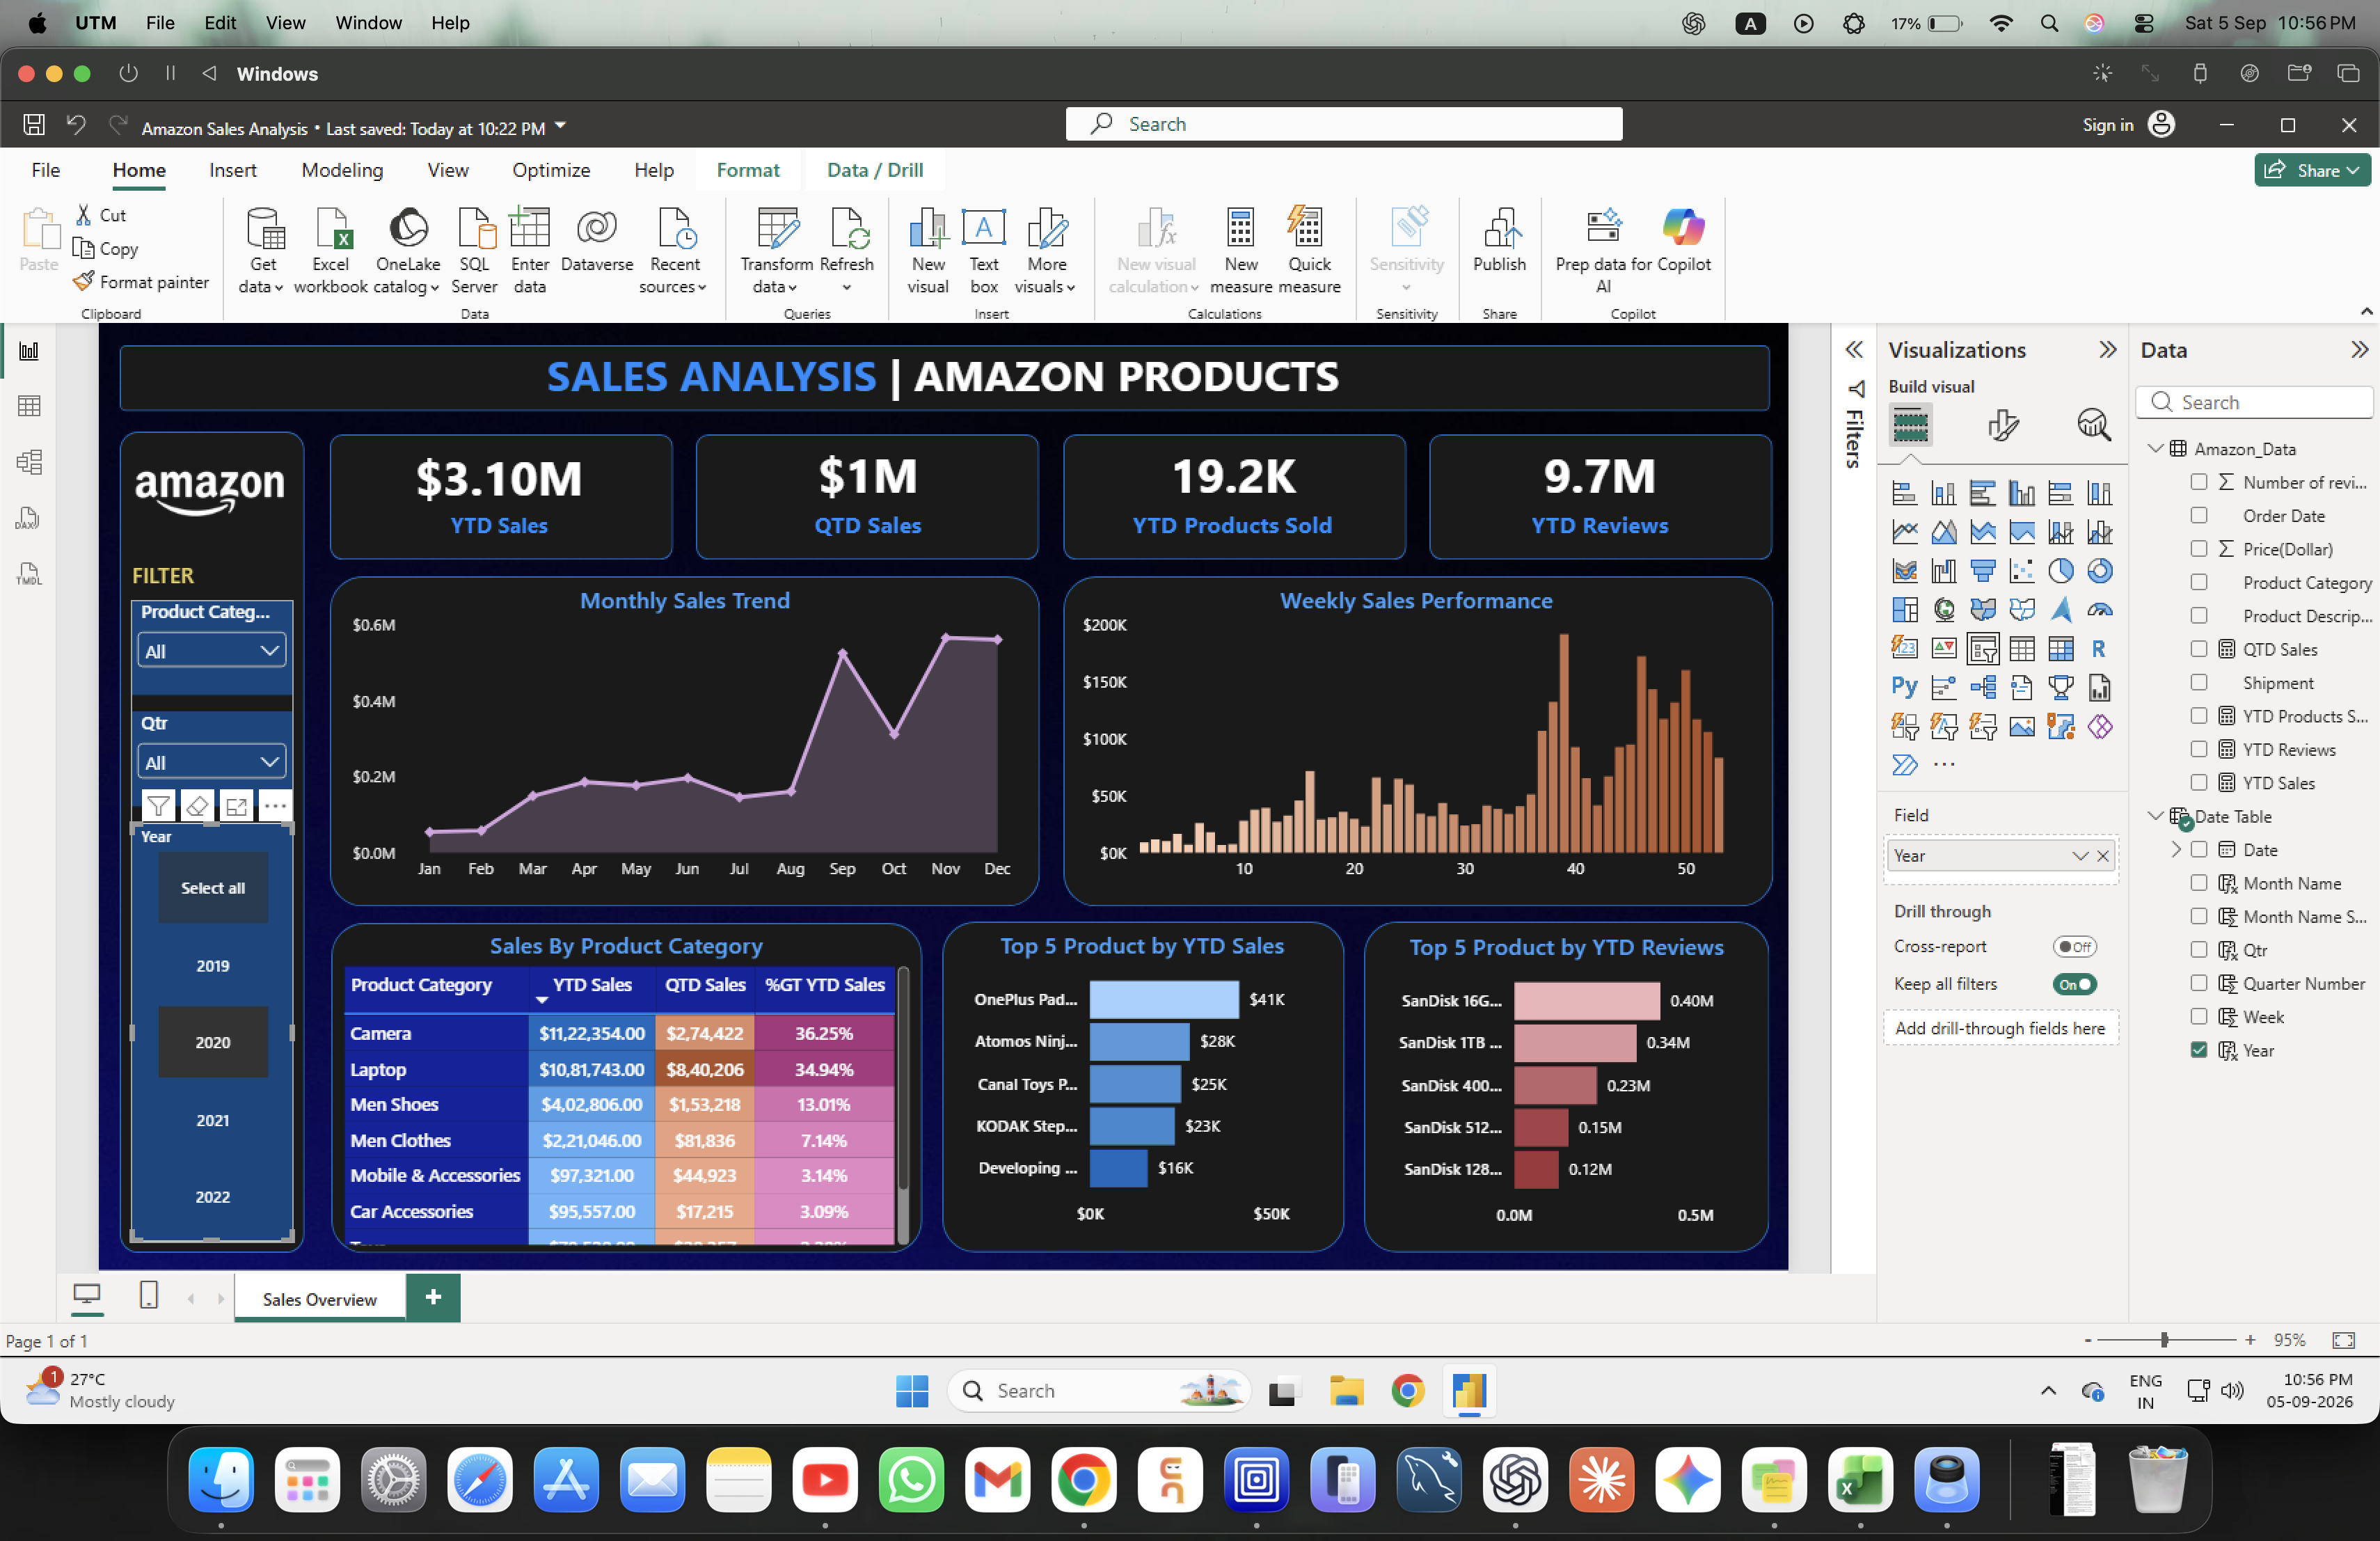

What the dashboard file says about the page in this screenshot:
{"tool":"powerbi","page":{"name":"Page 1","canvas":[1280,720],"ordinal":0},"visuals":[{"type":"shape","box":[15.4,16.8,1250,50],"z":0},{"type":"shape","box":[174.6,84.3,260,95],"z":0,"group":"g1"},{"type":"textbox","box":[334,16.8,610.7,50.3],"z":1000},{"type":"cardVisual","fields":{"Data":["Amazon_Data.YTD Sales"]},"box":[173.8,85.9,259.9,95],"z":1000,"group":"g1"},{"type":"shape","box":[15.4,82.4,140,622],"z":2000},{"type":"shape","box":[1007.6,84.3,260,95],"z":2000,"group":"g1"},{"type":"group","id":"g1","title":"Group 1","box":[173.8,84.3,1093.8,96.6],"z":3000},{"type":"shape","box":[729.9,84.3,260,95],"z":3000,"group":"g1"},{"type":"shape","box":[452.2,84.3,260,95],"z":4000,"group":"g1"},{"type":"shape","box":[174.5,191.6,538,250.1],"z":4000},{"type":"cardVisual","fields":{"Data":["Amazon_Data.QTD Sales"]},"box":[452.9,84.3,259.9,95],"z":5000,"group":"g1"},{"type":"areaChart","title":"Sales by Month","fields":{"Category":["Date Table.Month Name"],"Y":["Sum(Amazon_Data.Price(Dollar))"]},"box":[175.9,191.6,536.3,250.3],"z":5000},{"type":"cardVisual","fields":{"Data":["Amazon_Data.YTD Products Sold"]},"box":[729.5,84.3,259.9,95],"z":6000,"group":"g1"},{"type":"shape","box":[730.8,191.6,538,250.1],"z":6000},{"type":"cardVisual","fields":{"Data":["Amazon_Data.YTD Reviews"]},"box":[1007.6,84.3,259.9,95],"z":7000,"group":"g1"},{"type":"columnChart","title":"Sales by Week","fields":{"Category":["Date Table.Week"],"Y":["Sum(Amazon_Data.Price(Dollar))"]},"box":[729.4,191.6,537.7,250.3],"z":7000},{"type":"shape","box":[175.9,454.8,447.6,250.3],"z":8000},{"type":"pivotTable","title":"Sales By Product Category","fields":{"Rows":["Amazon_Data.Product Category"],"Values":["Amazon_Data.YTD Sales","Amazon_Data.QTD Sales","Divide(Amazon_Data.YTD Sales, ScopedEval(Amazon_Data.YTD Sales, []))"]},"box":[175.9,453.4,447.6,250.3],"z":9000},{"type":"shape","box":[958.2,453.2,307.3,250.7],"z":10000},{"type":"shape","box":[638.8,453.2,304.9,250.7],"z":11000},{"type":"clusteredBarChart","title":"Top 5 Product by YTD Sales","fields":{"Category":["Amazon_Data.Product Description"],"Y":["Amazon_Data.YTD Sales"]},"box":[635.2,453.2,309.8,250.7],"z":12000},{"type":"clusteredBarChart","title":"Top 5 Product by YTD Reviews","fields":{"Category":["Amazon_Data.Product Description"],"Y":["Amazon_Data.YTD Reviews"]},"box":[957,454.4,309.8,250.7],"z":13000},{"type":"slicer","fields":{"Values":["Amazon_Data.Product Category"]},"box":[24.3,210.2,123,71.5],"z":14000,"group":"g2"},{"type":"slicer","fields":{"Values":["Date Table.Qtr"]},"box":[24.3,294.6,123,71.5],"z":15000,"group":"g2"},{"type":"slicer","fields":{"Values":["Date Table.Year"]},"box":[24.3,379,123,317.5],"z":16000,"group":"g2"},{"type":"image","box":[21.5,94.4,128.7,74.4],"z":17000},{"type":"group","id":"g2","title":"Group 2","box":[24.3,210.2,123,486.3],"z":17001},{"type":"textbox","box":[24.8,180.6,82.6,29.5],"z":17002}]}

Visuals, with their boxes on the page's 1280x720 design canvas (x1, y1, x2, y2). These are canvas units, not pixel positions in the 2380x1541 screenshot, which may show the page scaled, cropped or inside an application window:
shape: 15 17 1265 67
shape: 175 84 435 179
textbox: 334 17 945 67
cardVisual - Amazon_Data.YTD Sales: 174 86 434 181
shape: 15 82 155 704
shape: 1008 84 1268 179
"Group 1" group: 174 84 1268 181
shape: 730 84 990 179
shape: 452 84 712 179
shape: 174 192 712 442
cardVisual - Amazon_Data.QTD Sales: 453 84 713 179
"Sales by Month" areaChart: 176 192 712 442
cardVisual - Amazon_Data.YTD Products Sold: 730 84 989 179
shape: 731 192 1269 442
cardVisual - Amazon_Data.YTD Reviews: 1008 84 1268 179
"Sales by Week" columnChart: 729 192 1267 442
shape: 176 455 624 705
"Sales By Product Category" pivotTable: 176 453 624 704
shape: 958 453 1266 704
shape: 639 453 944 704
"Top 5 Product by YTD Sales" clusteredBarChart: 635 453 945 704
"Top 5 Product by YTD Reviews" clusteredBarChart: 957 454 1267 705
slicer - Amazon_Data.Product Category: 24 210 147 282
slicer - Date Table.Qtr: 24 295 147 366
slicer - Date Table.Year: 24 379 147 696
image: 22 94 150 169
"Group 2" group: 24 210 147 696
textbox: 25 181 107 210
